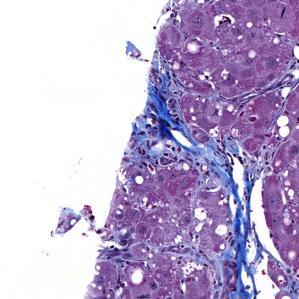fibrosis: (144, 78, 199, 168)
